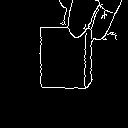cube: (32, 22, 103, 99)
